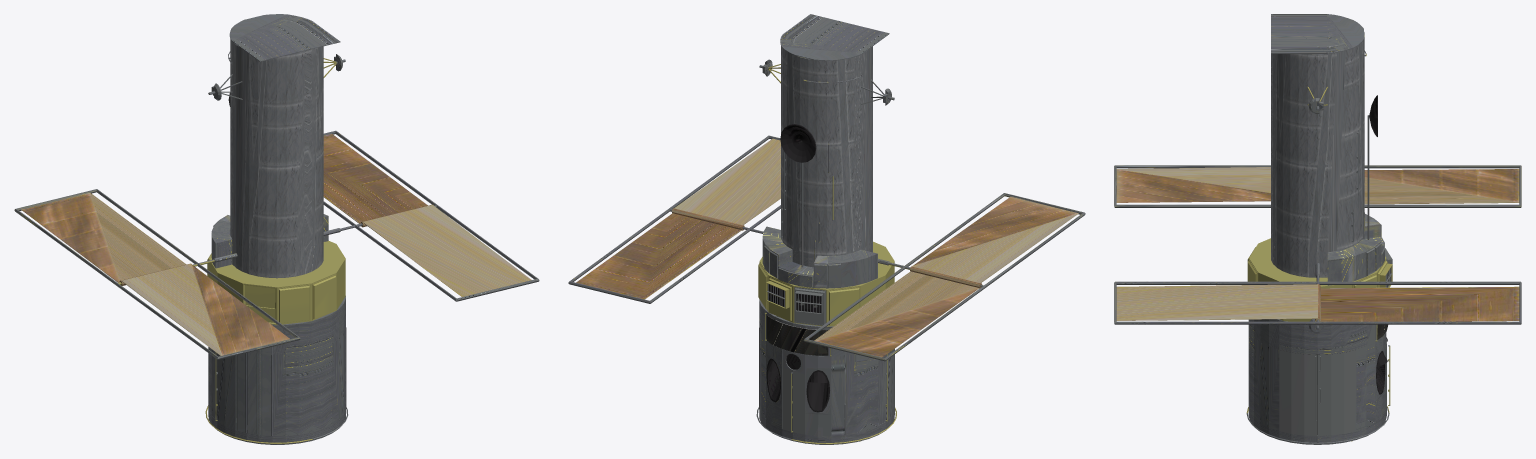
The model's file is hubble space telescope.glb.
3 renders of one model, left to right at view 1: azimuth 30°, elevation 25°; view 2: azimuth 150°, elevation 25°; view 3: azimuth 270°, elevation 25°, orthographic.
Visible parts, largest first — view 1: node_id6, node_id15, node_id12; view 2: node_id6, node_id15, node_id12, node_id9, node_id18; view 3: node_id6, node_id15, node_id12, node_id9.
Part boxes in pixels (x1,y1,x2,y2): node_id6: (14, 14, 539, 444); node_id15: (21, 134, 531, 355); node_id12: (230, 39, 323, 278); node_id6: (568, 14, 1085, 444); node_id15: (576, 138, 1078, 357); node_id12: (781, 46, 872, 267); node_id9: (759, 124, 829, 412); node_id18: (766, 315, 828, 355); node_id6: (1114, 14, 1521, 444); node_id15: (1116, 167, 1519, 321); node_id12: (1271, 37, 1364, 277); node_id9: (1280, 95, 1390, 434).
Bounding box in the file's own units: 6.19 × 7.09 × 6.77.
Materials: 5 (5 with a texture image).
